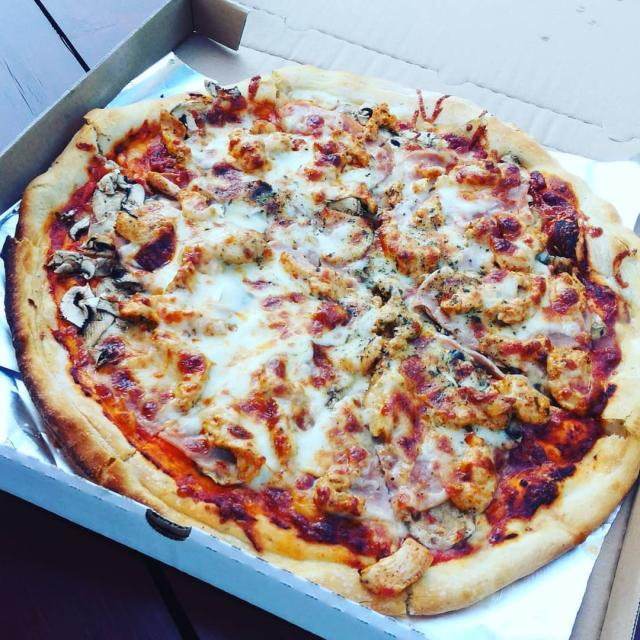pizza: (5, 66, 640, 616)
